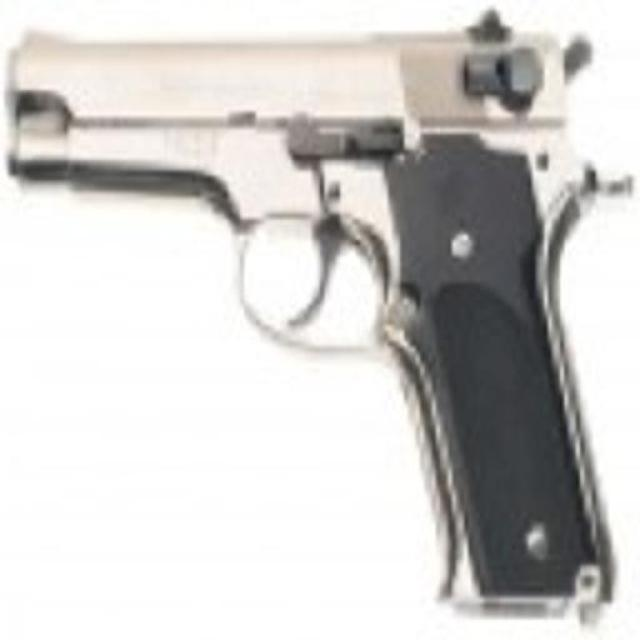pistol: (11, 15, 623, 617)
